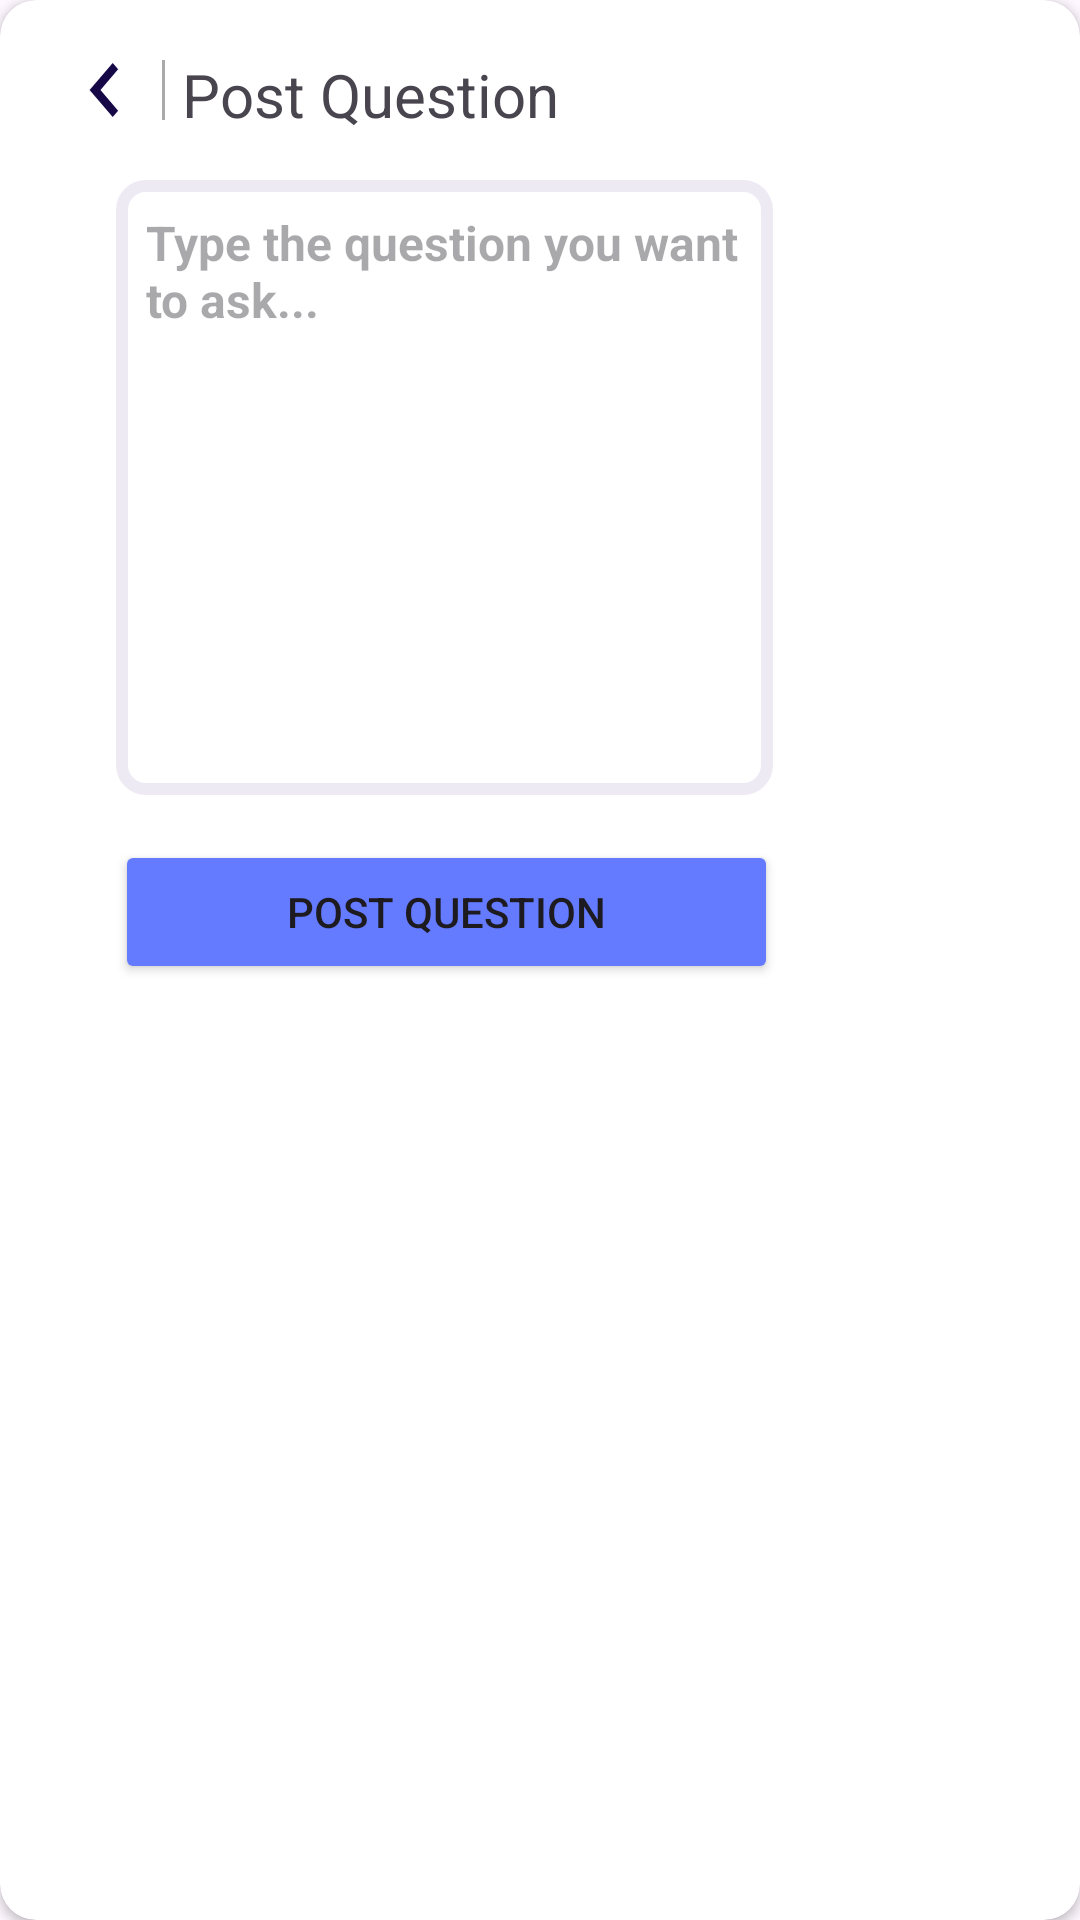

Icons on this 1080 x 1920 Android screen, each with the point to tap as (x=x, y=y):
chevron left: (x=103, y=90)
